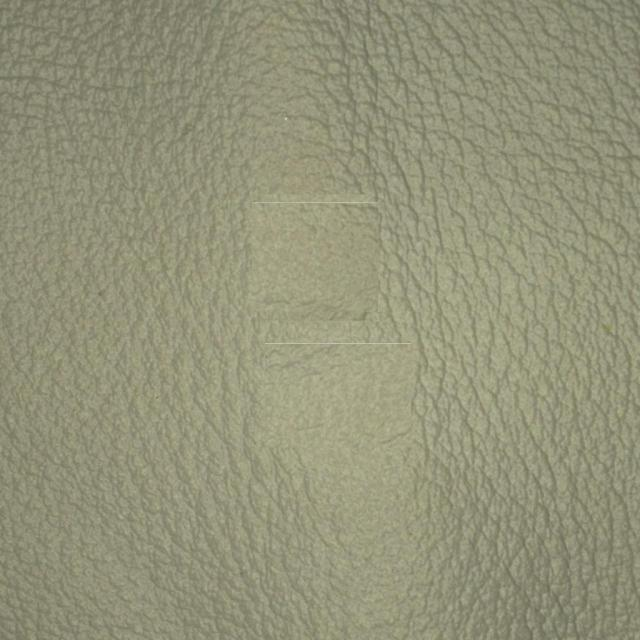Healed Injury: (229, 179, 406, 369)
